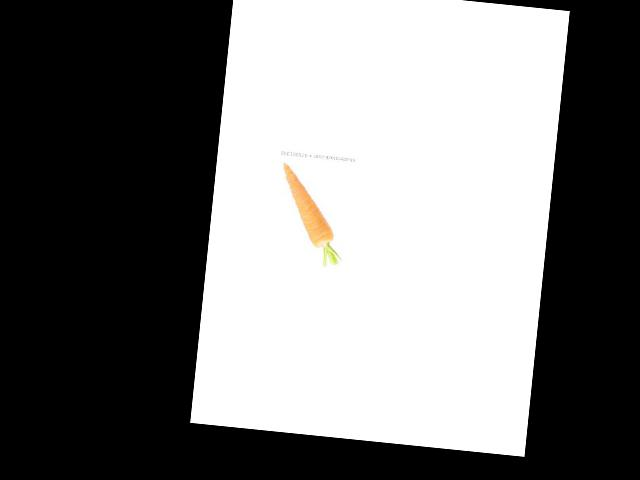carrot: (271, 158, 342, 251)
